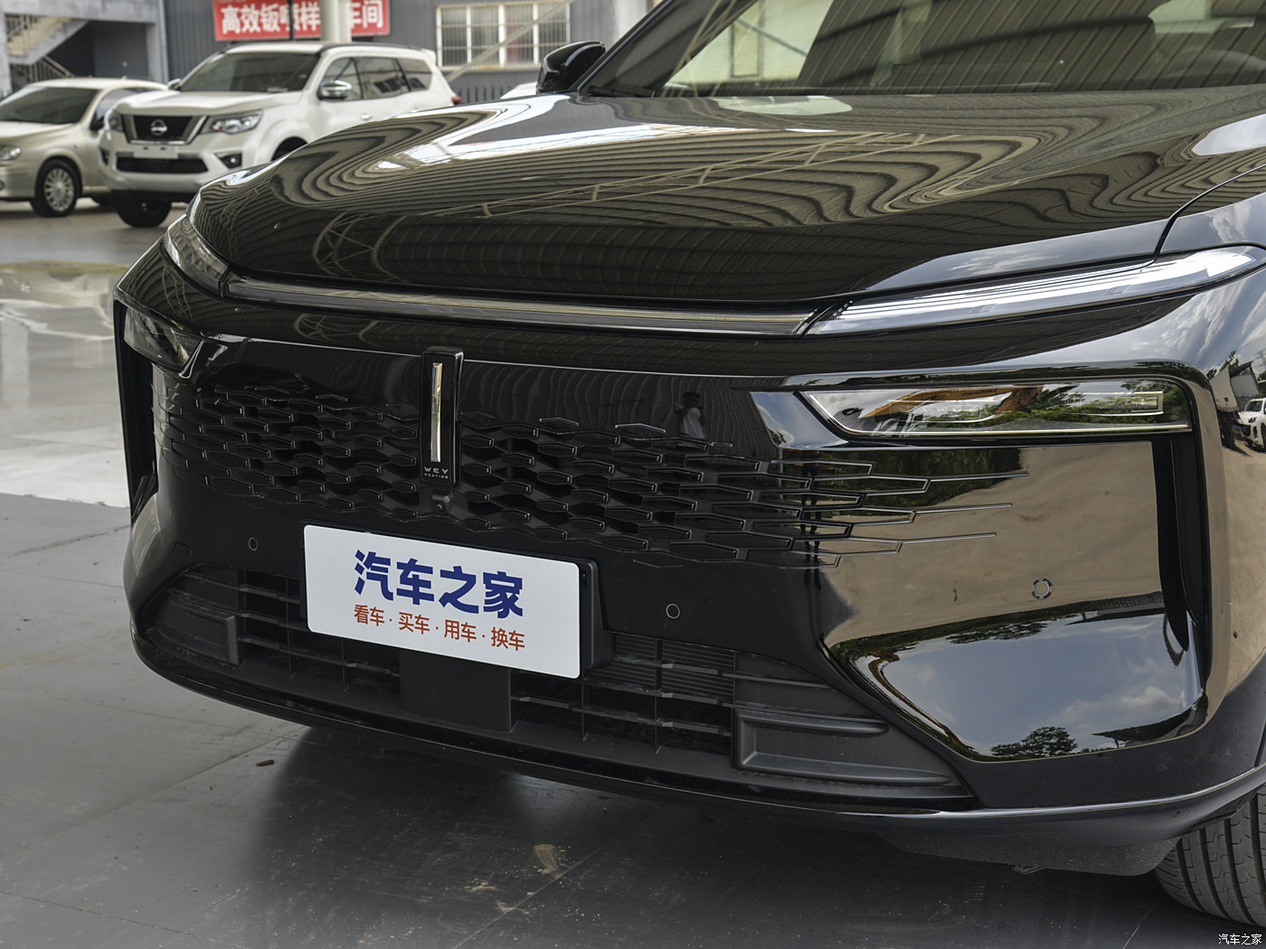WEY: (423, 354, 450, 482)
